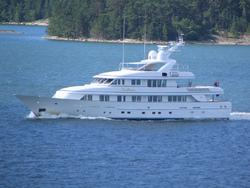yacht: (10, 24, 234, 123)
